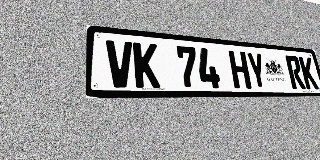4: (196, 48, 221, 88)
7: (175, 46, 200, 88)
H: (228, 50, 252, 89)
K: (133, 42, 160, 88), (298, 56, 319, 89)
R: (285, 55, 306, 89)
V: (106, 40, 134, 88)
Y: (246, 52, 268, 89)
